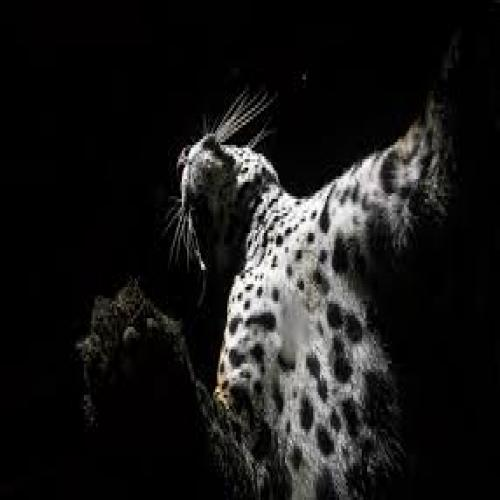jaguar_not-endangered: (169, 122, 417, 499)
